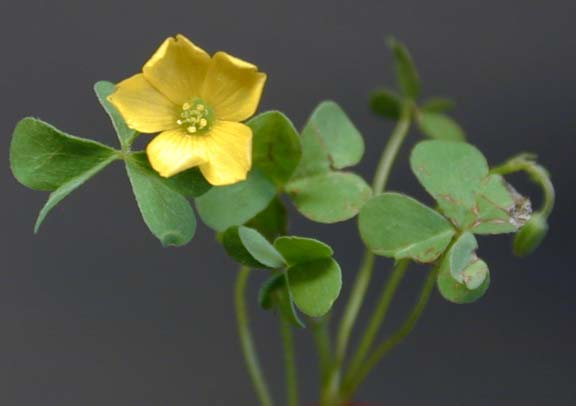oxalis: (55, 72, 540, 314)
